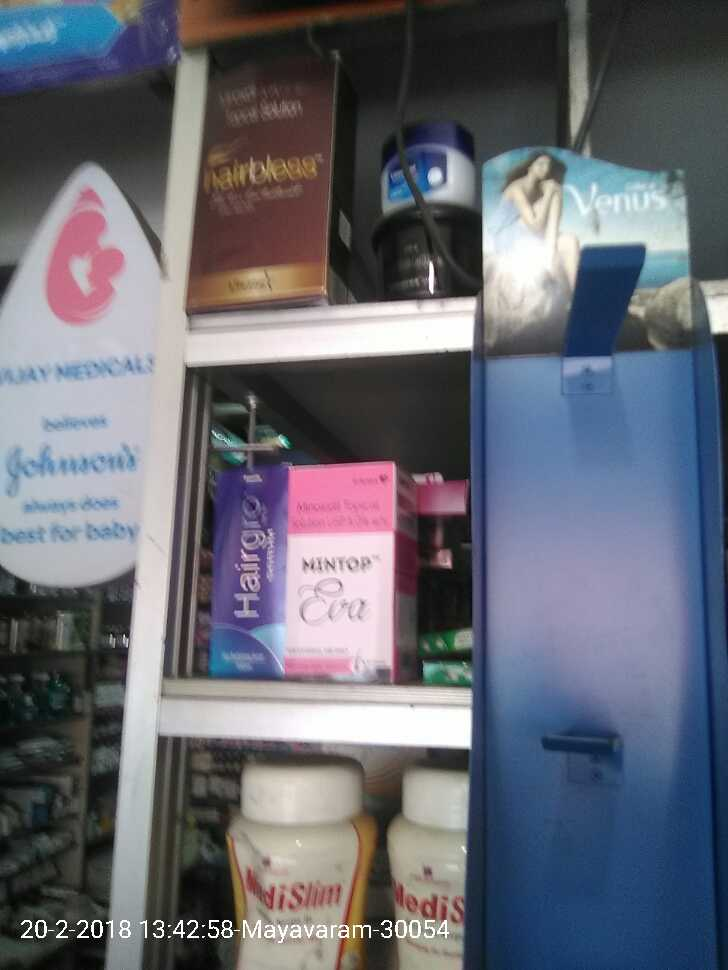reject: (312, 367, 531, 516)
